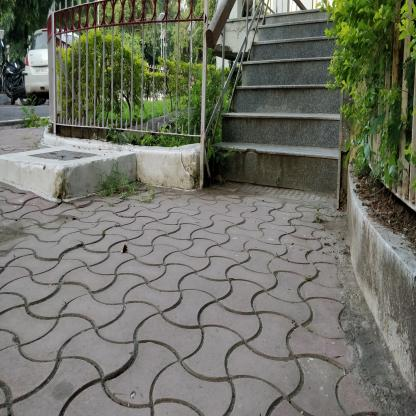stairs: (240, 67, 328, 199)
